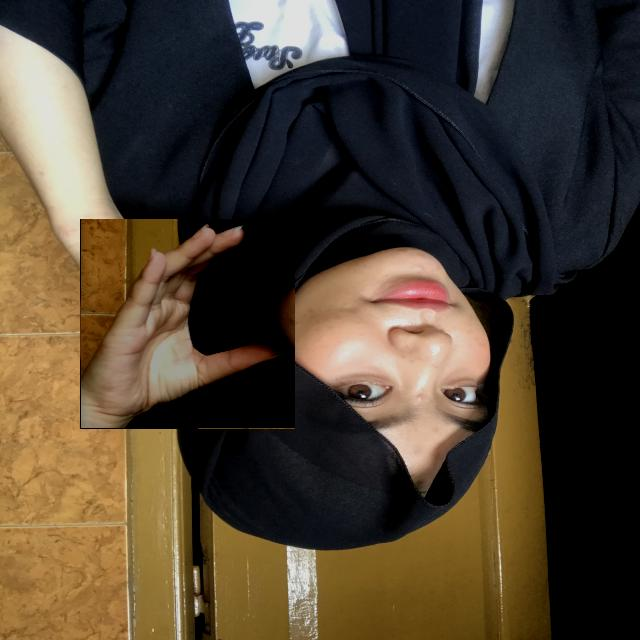mendengar: (80, 219, 295, 429)
